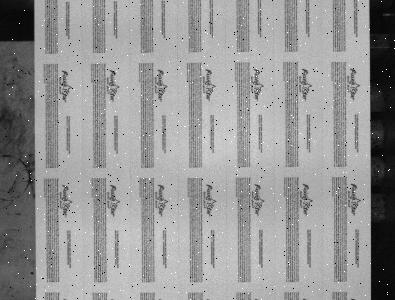backgroundclutter: (30, 271, 34, 275)
